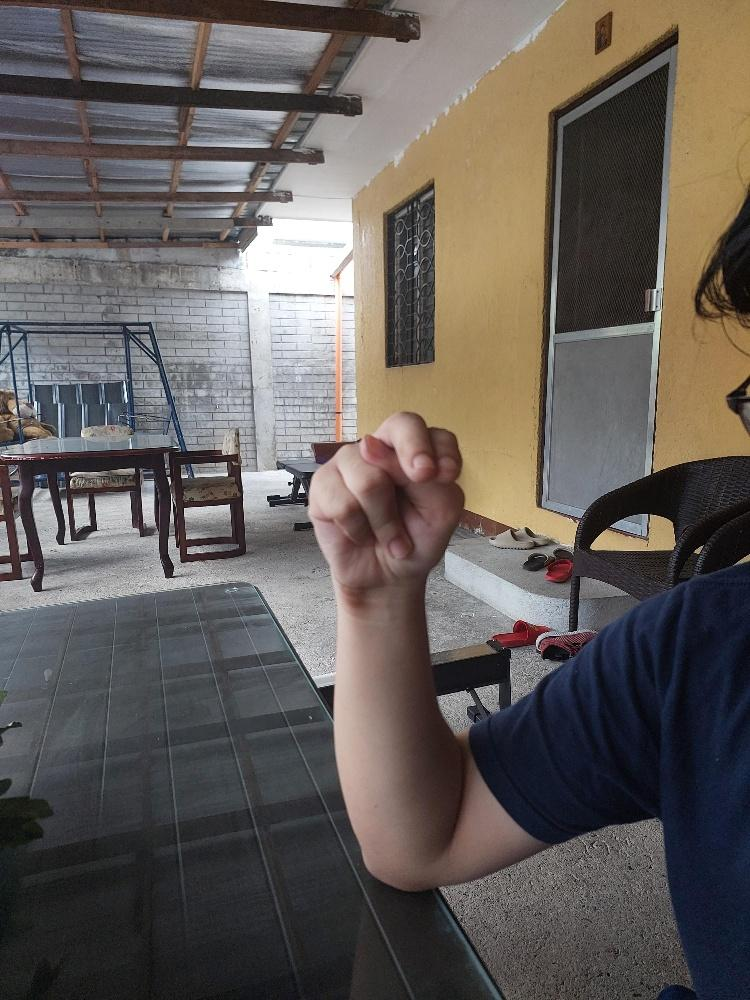n: (303, 403, 468, 595)
